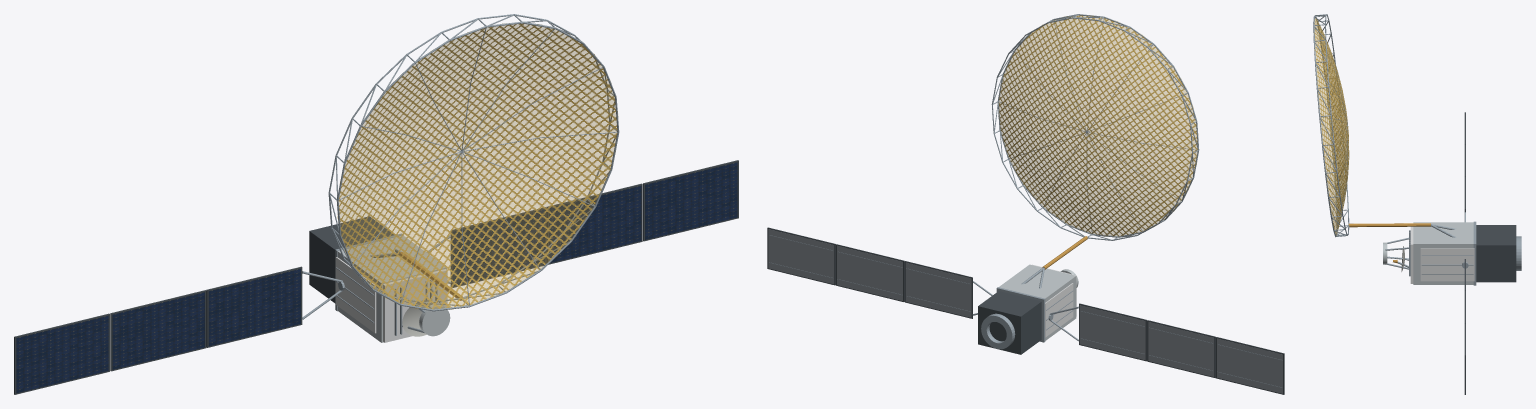
Rendered from ssl-1300-mbsat.glb.
3 views of the same model, side by side, from view 1: azimuth 30°, elevation 25°; view 2: azimuth 150°, elevation 25°; view 3: azimuth 270°, elevation 25° (orthographic). The views are drawn at different scales.
Parts seen in each view (by area): view 1: Deployable mesh reflector, Solar cell panel (×6), Solar panel frame (×4), Payload module, Service module, Radiator face, Earth-facing deck, Antenna tower platform; view 2: Deployable mesh reflector, Rear array substrate (×6), Service module, Payload module, Radiator face, Launch adapter ring; view 3: Deployable mesh reflector, Service module, Payload module, Radiator face, Reflector deployment boom, Earth-facing deck, Module interface, Launch adapter ring.
Part boxes in pixels (<box>): Deployable mesh reflector: <box>337,23,618,309</box>; Solar cell panel (×6): <box>16,162,737,393</box>; Solar panel frame (×4): <box>14,160,738,394</box>; Payload module: <box>337,235,446,342</box>; Service module: <box>309,216,393,303</box>; Radiator face: <box>335,257,376,333</box>; Earth-facing deck: <box>383,269,447,342</box>; Antenna tower platform: <box>419,304,450,336</box>; Deployable mesh reflector: <box>998,15,1198,236</box>; Rear array substrate (×6): <box>768,229,1282,393</box>; Service module: <box>978,291,1041,354</box>; Payload module: <box>999,264,1076,340</box>; Radiator face: <box>1045,283,1073,337</box>; Launch adapter ring: <box>981,313,1015,349</box>; Deployable mesh reflector: <box>1314,17,1349,235</box>; Service module: <box>1476,225,1516,282</box>; Payload module: <box>1413,222,1473,284</box>; Radiator face: <box>1420,248,1474,281</box>; Reflector deployment boom: <box>1348,223,1430,227</box>; Earth-facing deck: <box>1410,226,1413,283</box>; Module interface: <box>1473,221,1476,285</box>; Launch adapter ring: <box>1516,236,1521,270</box>.
Bounding box in the file's own units: 30.96 × 14.87 × 11.22.
9 materials, 2 textured.
